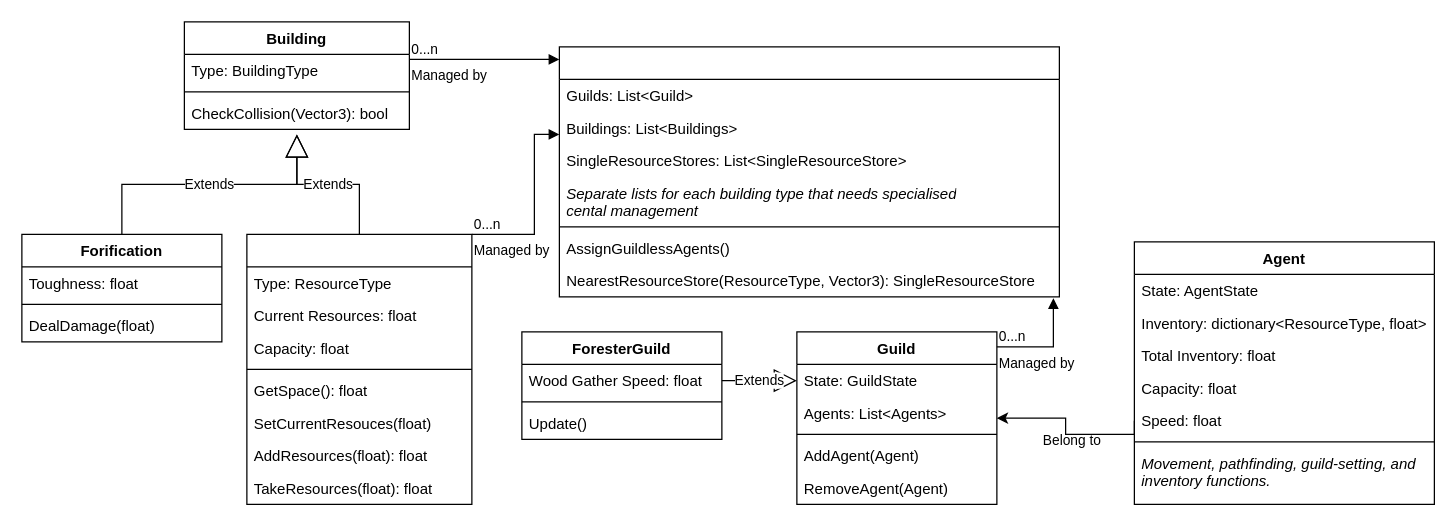
The diagram is 1456 pixels wide and 530 high, and some of its shapes have lost their labels. Each missing label, with the box of its shape:
KingdomManager: (558, 46, 1059, 297)
SingleResourceStore: (246, 233, 472, 504)
